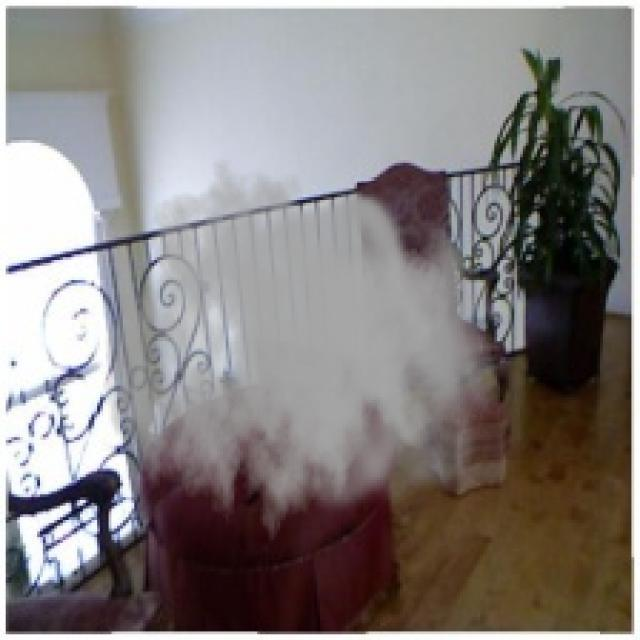Smoke: (102, 157, 498, 560)
